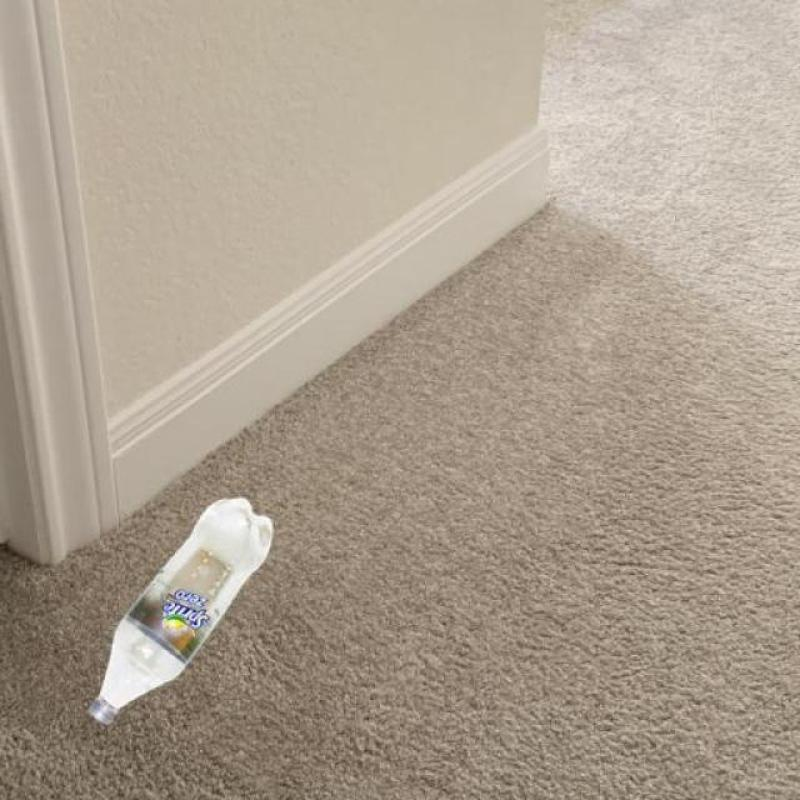botella: (83, 497, 278, 726)
